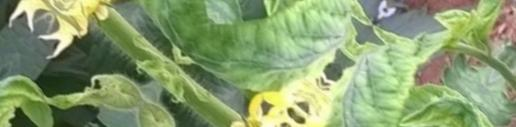Tomato leaf yellow virus: (181, 0, 375, 127)
